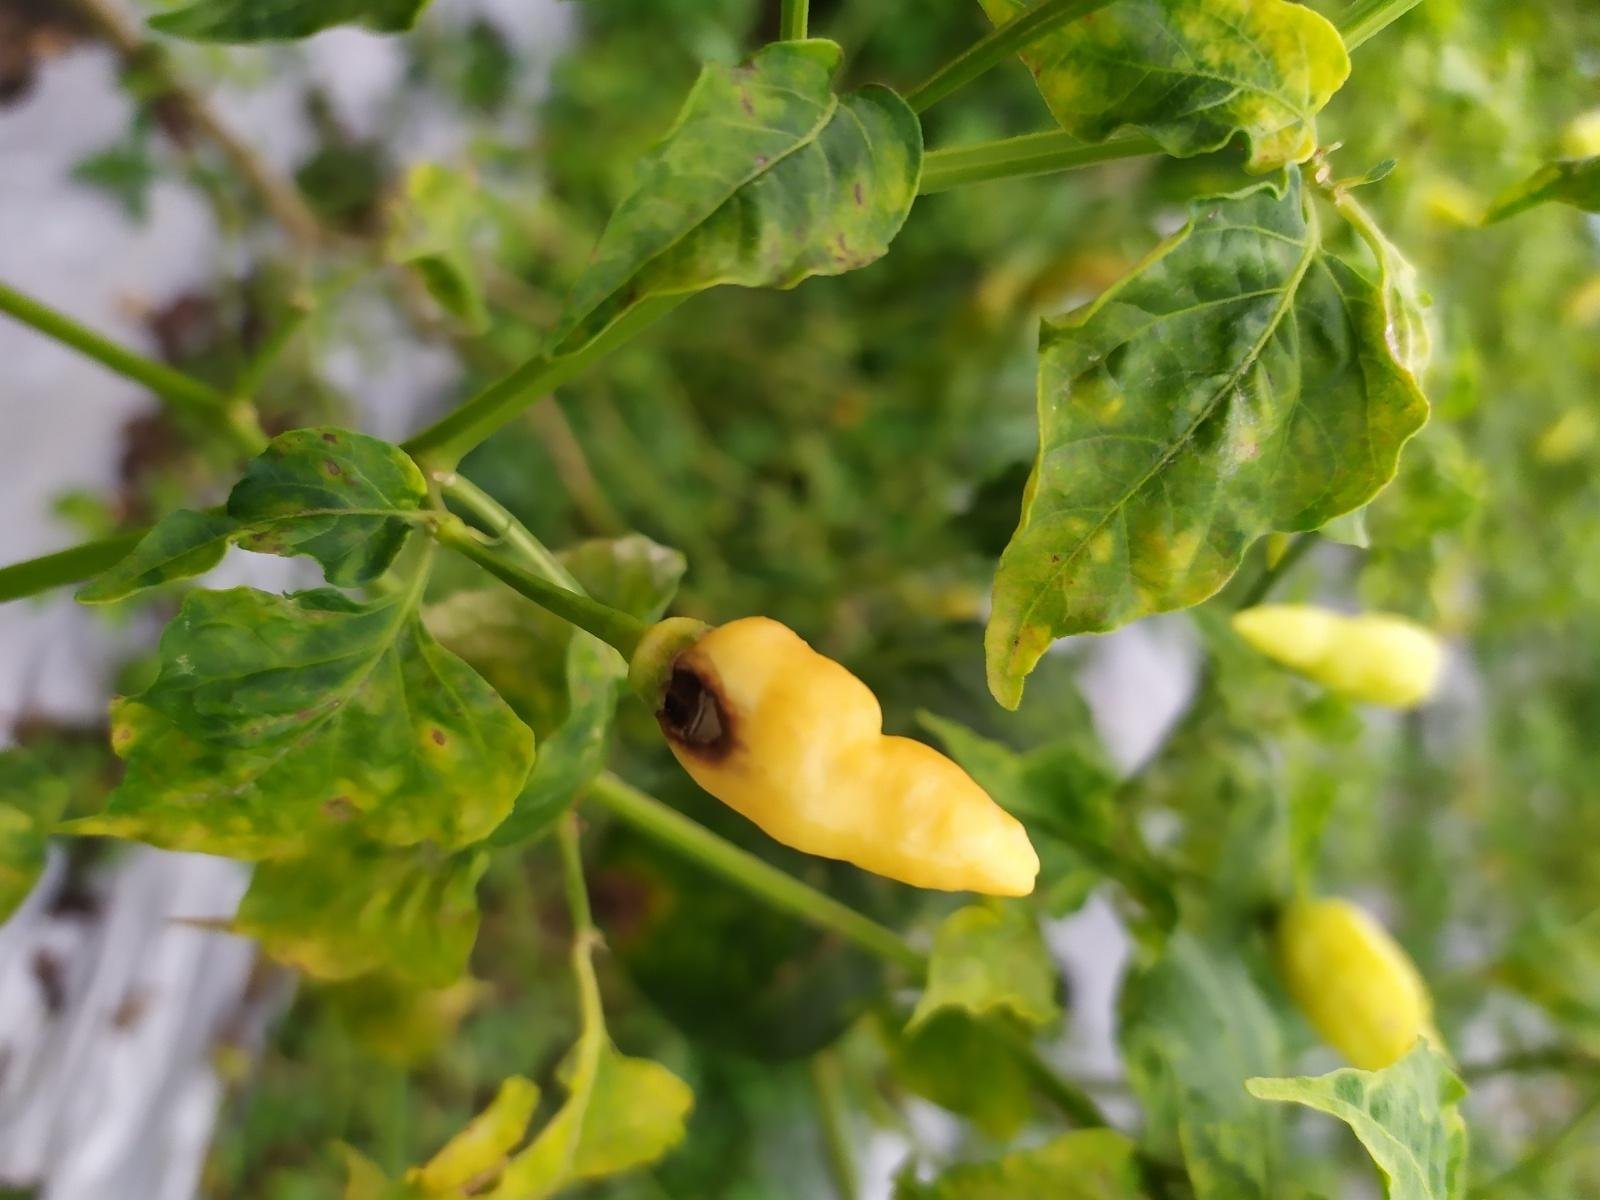lalat_buah: (650, 615, 1043, 900)
